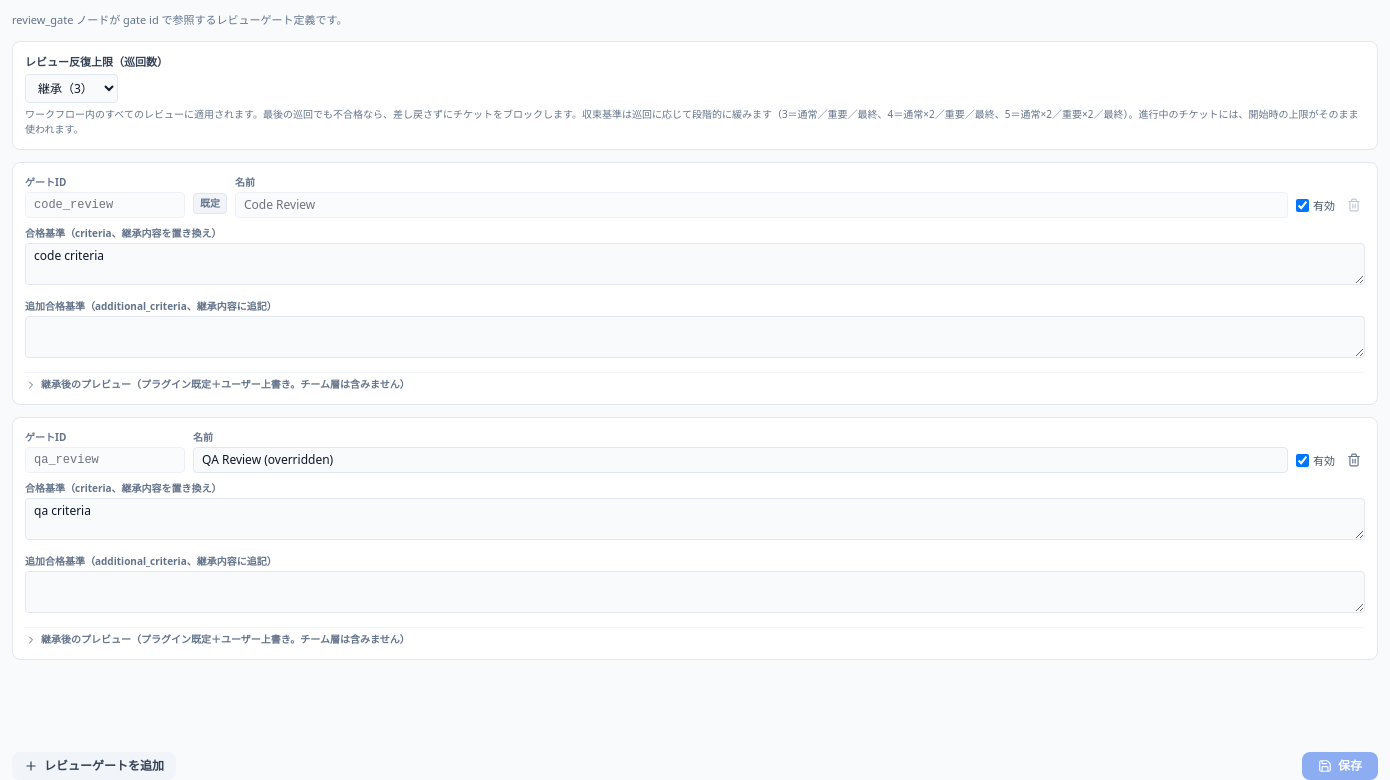
Test: ReviewGatesEditor › a row with an empty gate ID › does not mark any ID field invalid for an error from the API
Check: the 1st field showing "Code Review" is shown, box [235,192,1288,218]
Type " extra" into the 1st text box labelled "合格基準（criteria、継承内容を置き換え）".
click(695, 264); type(" extra")  # box [25,243,1365,285]
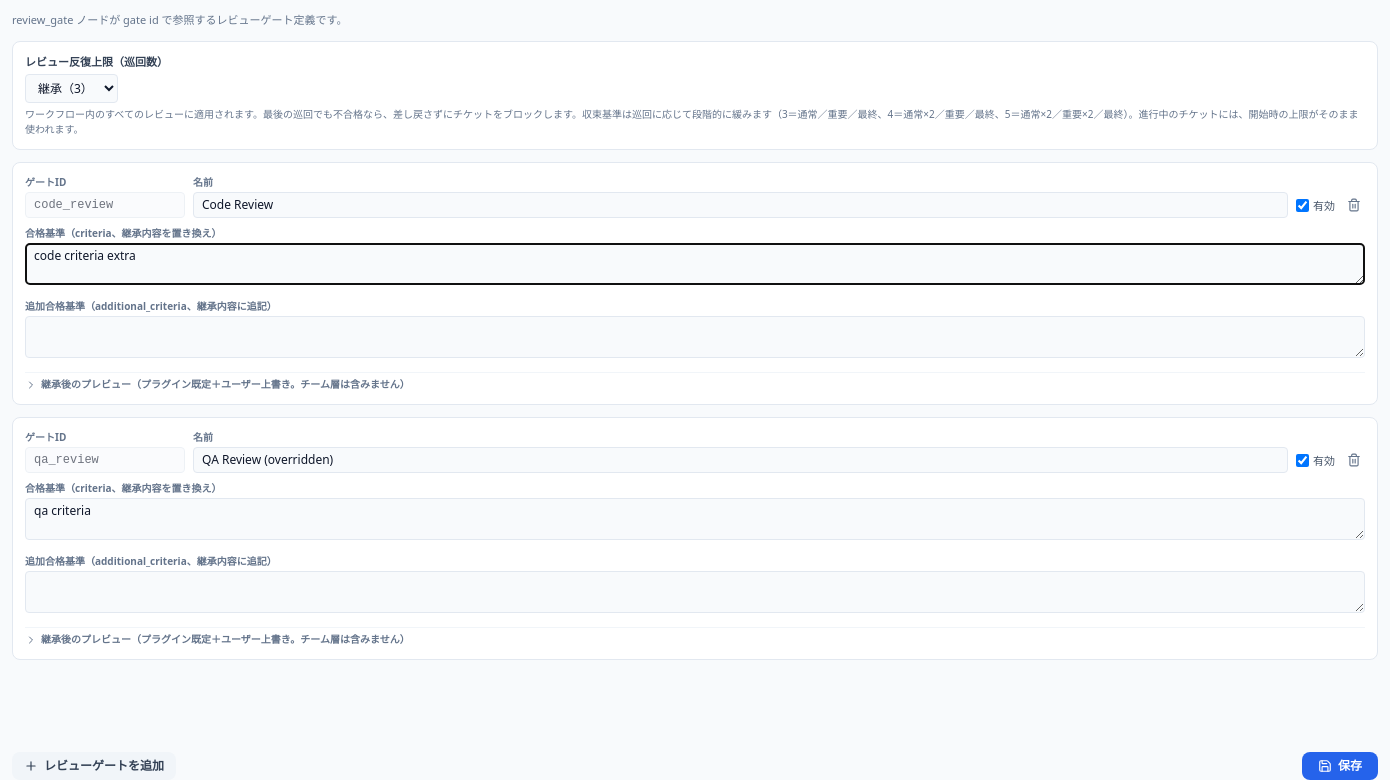
Click the button "保存".
click(1340, 766)  # box [1302,752,1378,779]
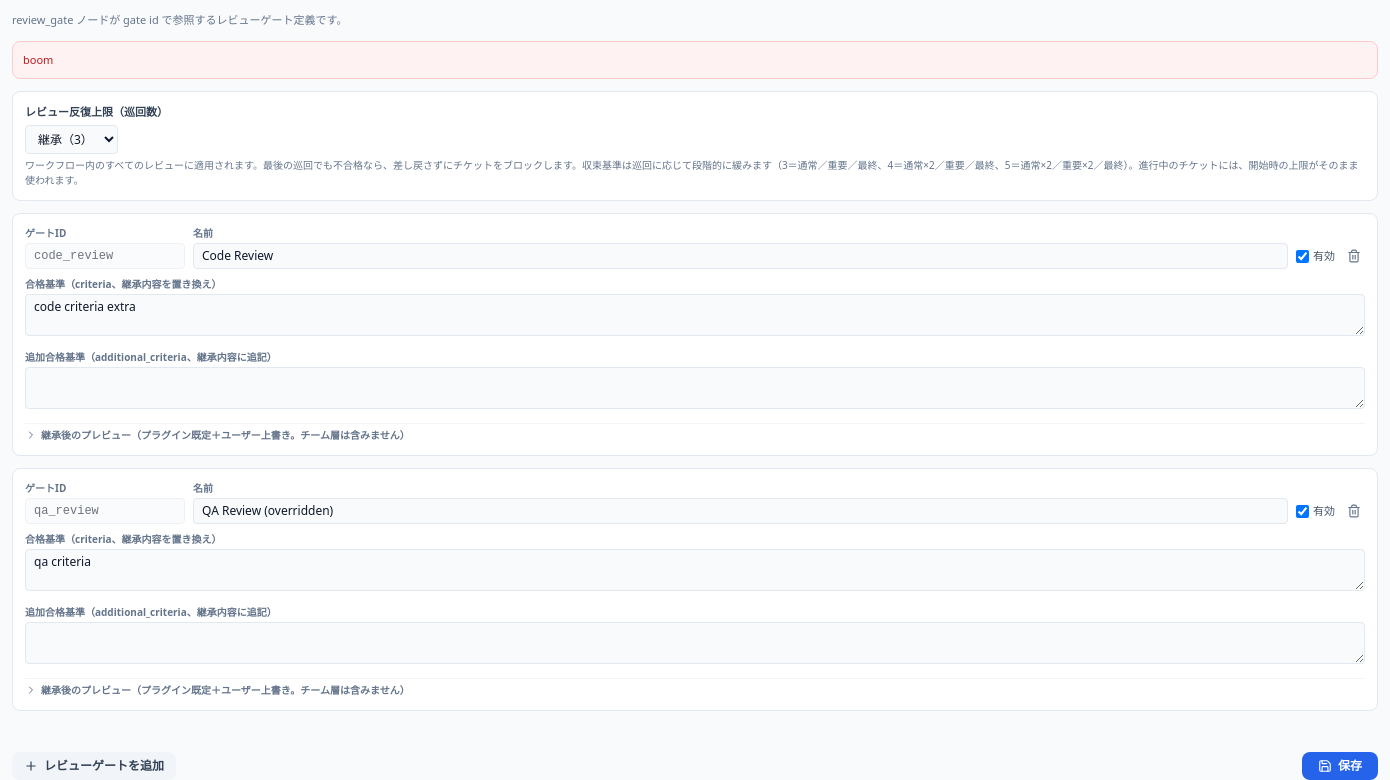
Check: the message reads "boom", box [23,52,53,66]
